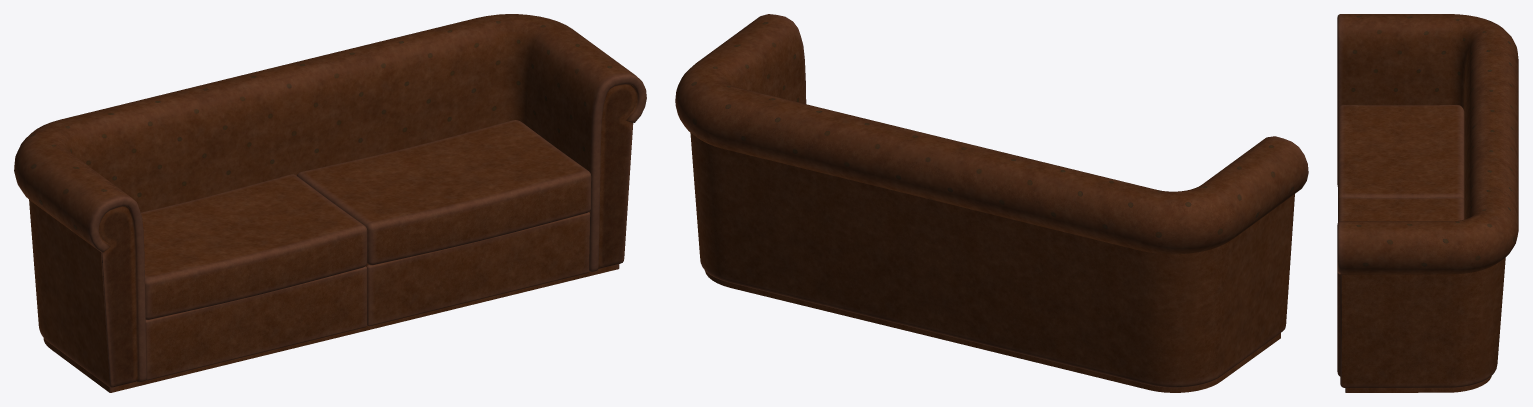
Rendered from SofaRetro01_1.FBX.
3 views of the same model, side by side, from view 1: azimuth 30°, elevation 25°; view 2: azimuth 150°, elevation 25°; view 3: azimuth 270°, elevation 25° (orthographic). The views are drawn at different scales.
Visible parts, largest first — view 1: SofaRetro01_1; view 2: SofaRetro01_1; view 3: SofaRetro01_1.
Boxes of the visible parts, left/top/right/bottom form: SofaRetro01_1: left=14, top=14, right=646, bottom=392; SofaRetro01_1: left=675, top=14, right=1308, bottom=392; SofaRetro01_1: left=1337, top=14, right=1518, bottom=392.
Bounding box in the file's own units: 2985 × 1007 × 991.
